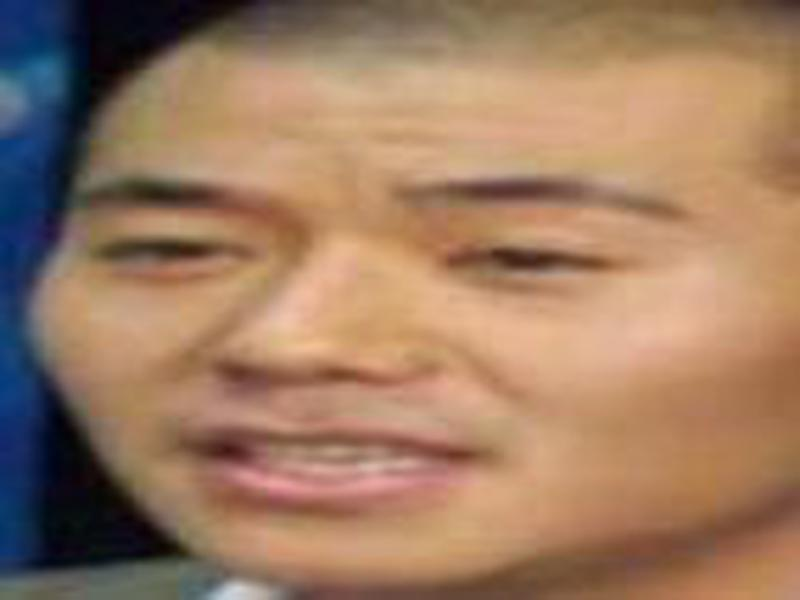without_mask: (34, 57, 770, 587)
